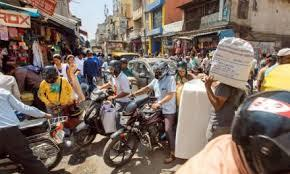helmet: (231, 90, 290, 174), (152, 60, 170, 81), (41, 65, 60, 84), (107, 59, 122, 76), (176, 60, 188, 77)
nohelmet: (52, 53, 62, 66), (66, 54, 76, 65)
